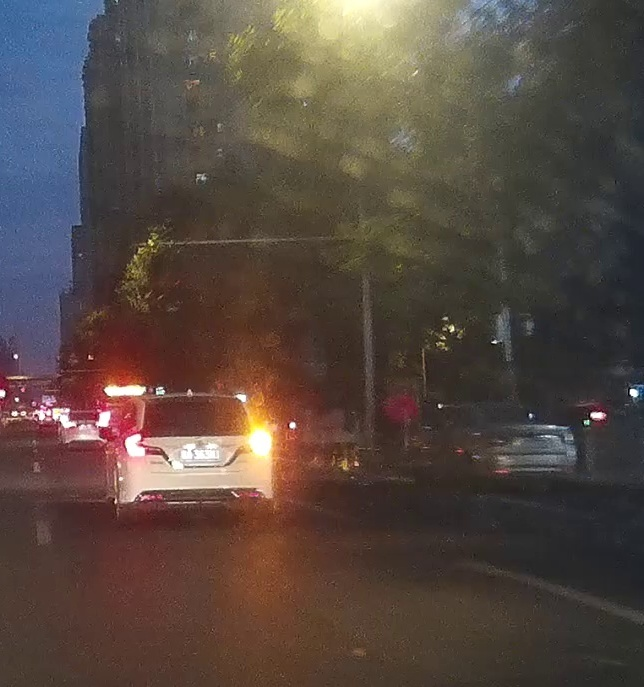L_light: (124, 432, 146, 457)
R_light: (250, 432, 272, 454)
T_light: (186, 398, 207, 402)
night-right: (119, 392, 274, 523)
